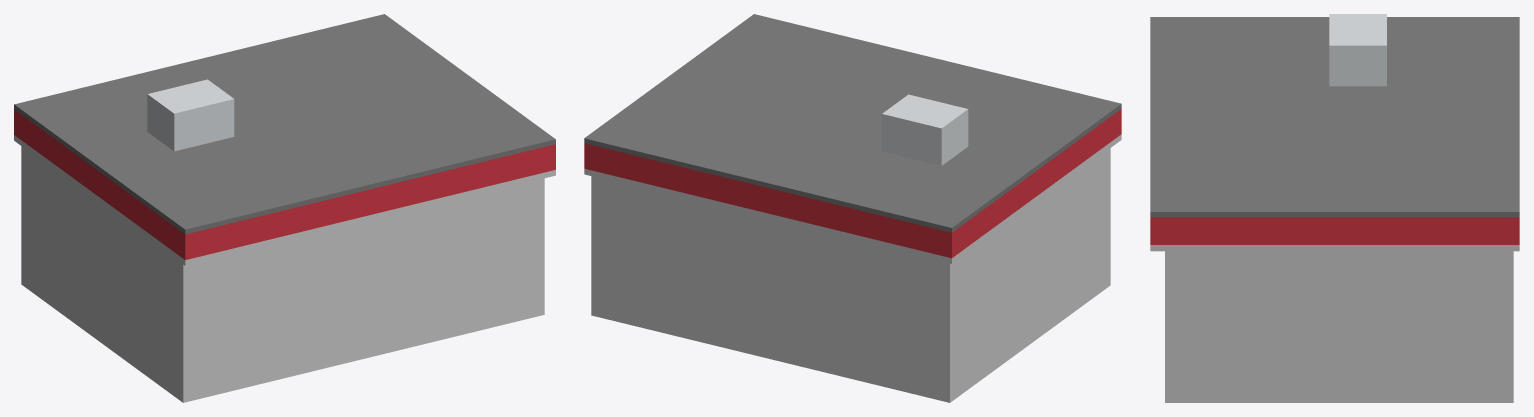
Rendered from site_office_far.fbx.
The picture shows the model from 3 angles, left to right: view 1: azimuth 30°, elevation 25°; view 2: azimuth 150°, elevation 25°; view 3: azimuth 270°, elevation 25°; orthographic projection. The views are drawn at different scales.
Visible parts, largest first — view 1: a1019/0/site_office_far; view 2: a1019/0/site_office_far; view 3: a1019/0/site_office_far.
Part boxes in pixels (left/top/right/bottom): a1019/0/site_office_far: left=14, top=14, right=555, bottom=402; a1019/0/site_office_far: left=584, top=14, right=1121, bottom=402; a1019/0/site_office_far: left=1150, top=14, right=1519, bottom=402.
Bounding box in the file's own units: 8 × 4.48 × 6.4.
